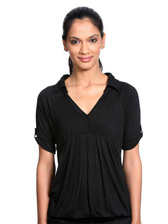clothoes: (31, 70, 143, 220)
